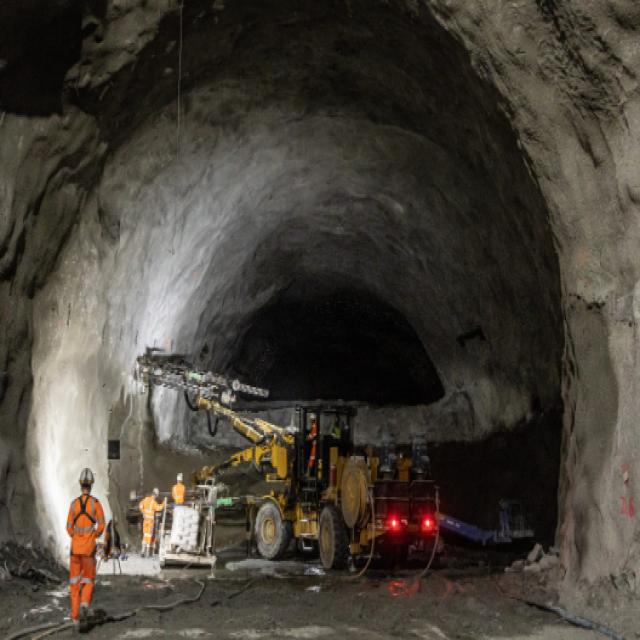helmet: (78, 465, 96, 494), (150, 486, 160, 498), (177, 470, 184, 484), (310, 412, 315, 421)
vest: (68, 495, 100, 560), (142, 494, 156, 522), (175, 484, 183, 504), (312, 420, 318, 440), (333, 428, 342, 440)
